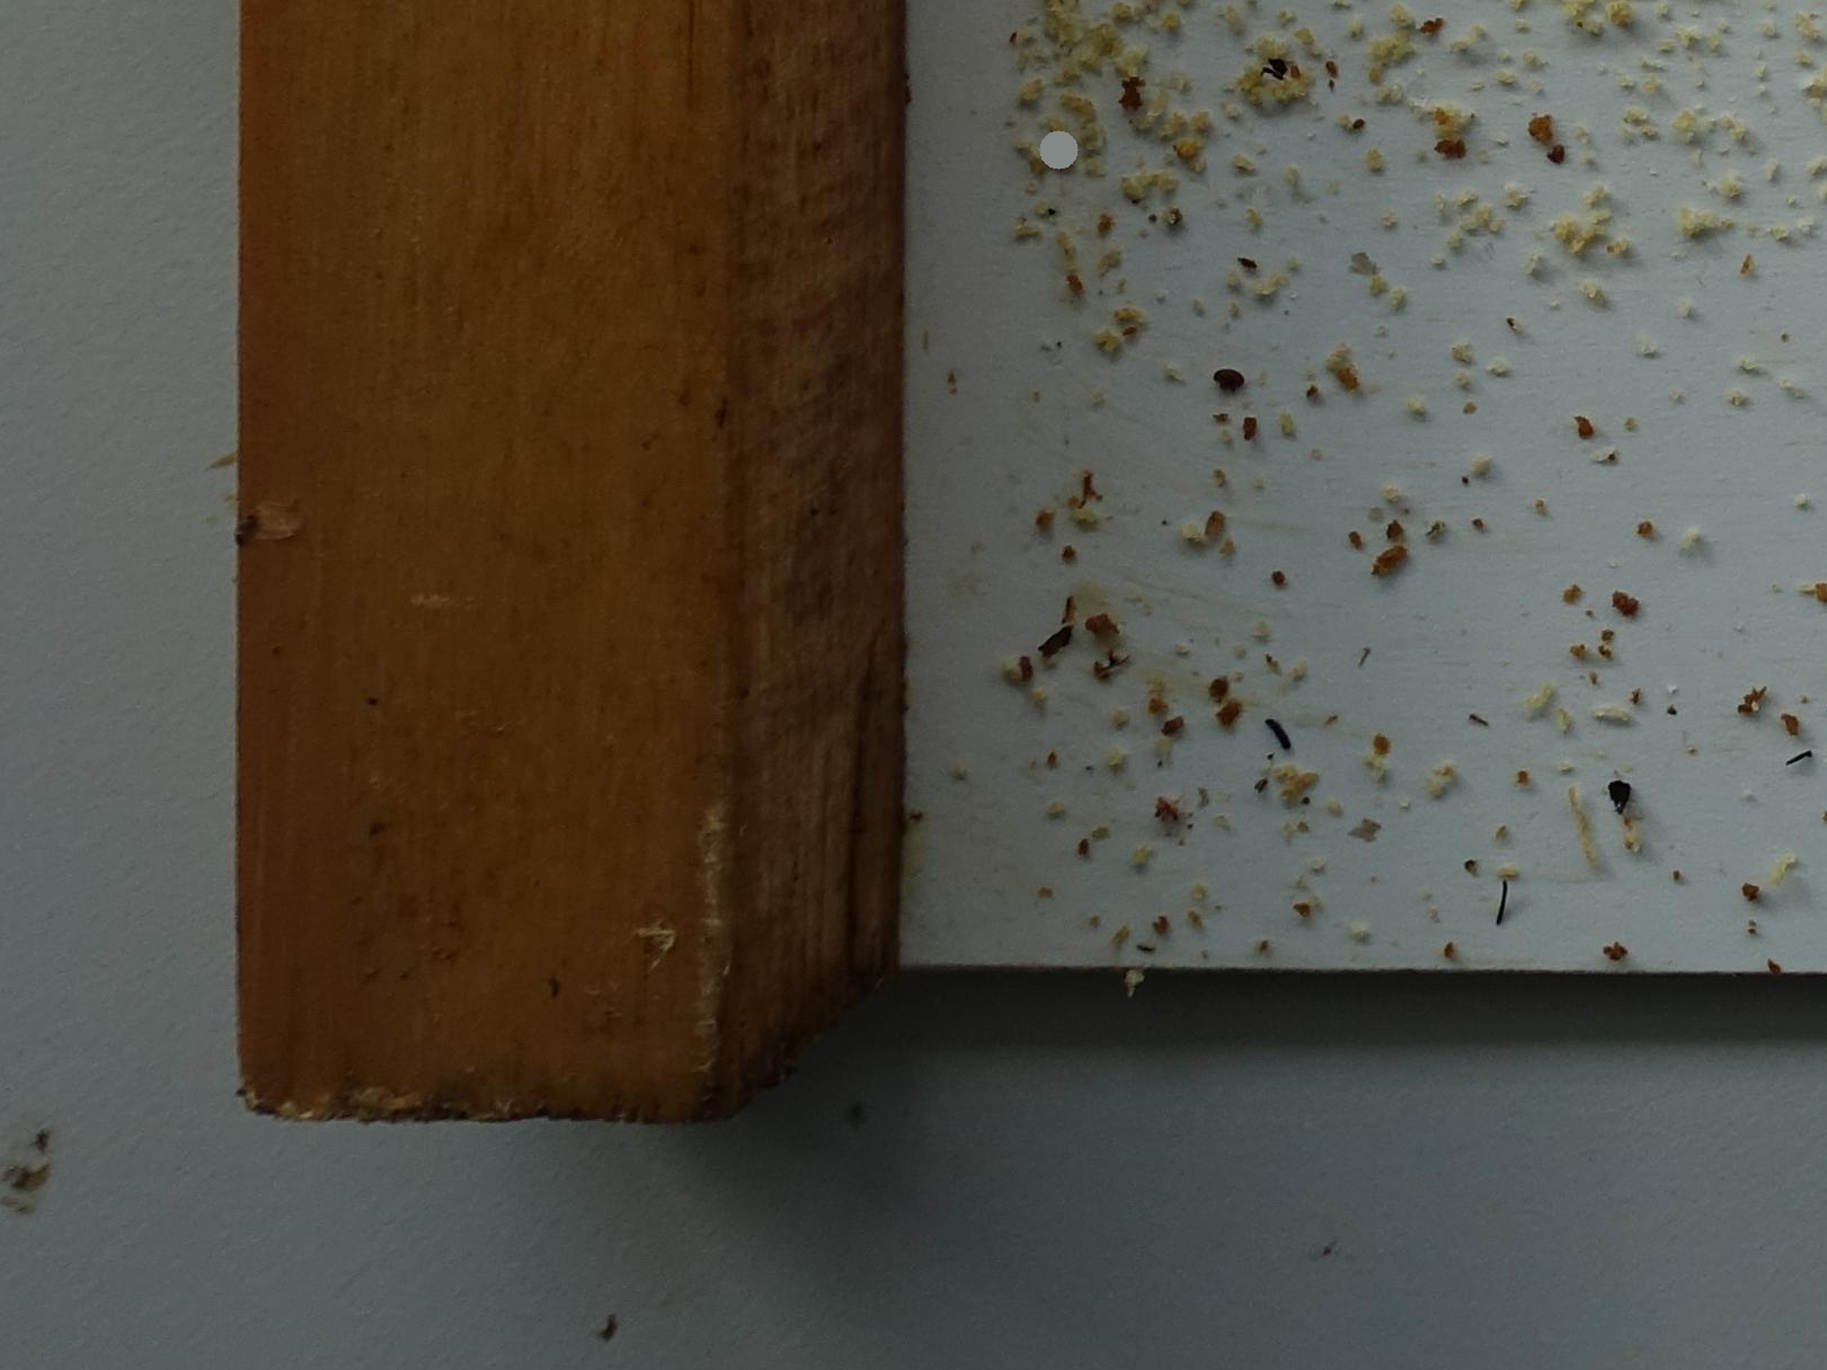Varroa: (1227, 368, 1239, 381)
